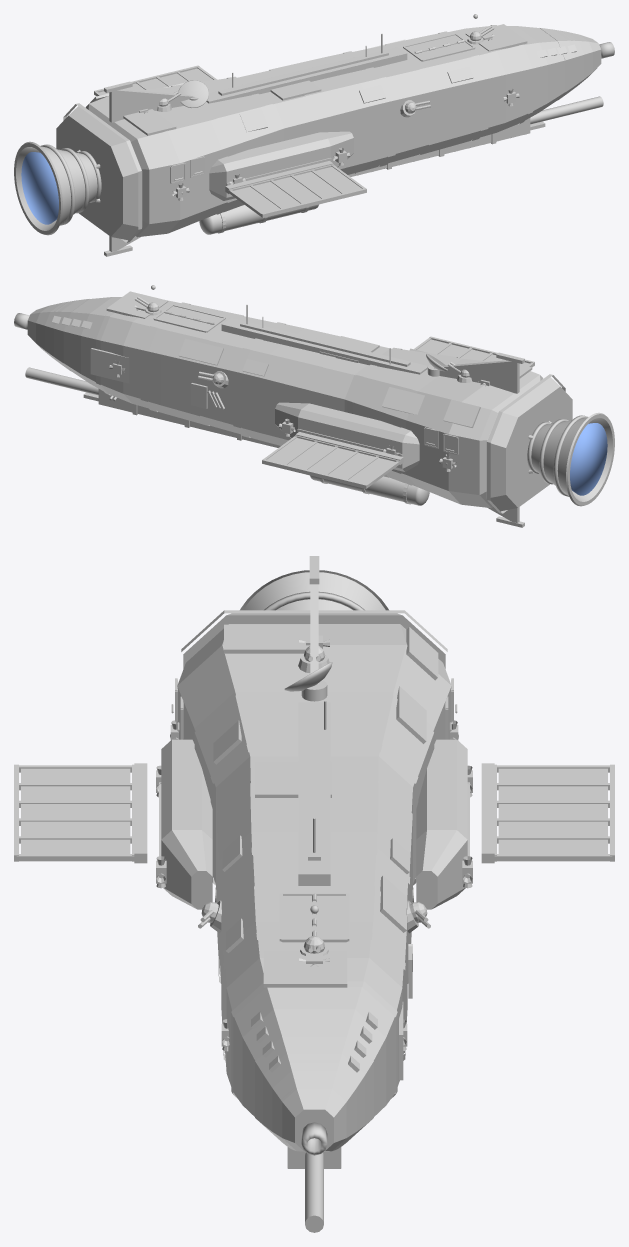
Rendered from PlayerShip.fbx.
3 renders of one model, top to bottom at view 1: azimuth 30°, elevation 25°; view 2: azimuth 150°, elevation 25°; view 3: azimuth 270°, elevation 25°, orthographic. The views are drawn at different scales.
Visible parts, largest first — view 1: Body, Engine; view 2: Body, Engine; view 3: Body.
Boxes of the visible parts, left/top/right/bottom form: Body: left=14, top=14, right=614, bottom=256; Engine: left=21, top=152, right=58, bottom=224; Body: left=14, top=285, right=614, bottom=527; Engine: left=570, top=423, right=607, bottom=495; Body: left=14, top=556, right=614, bottom=1232.
Size of the model in its own units: 1.1 by 0.306 by 0.5608.
